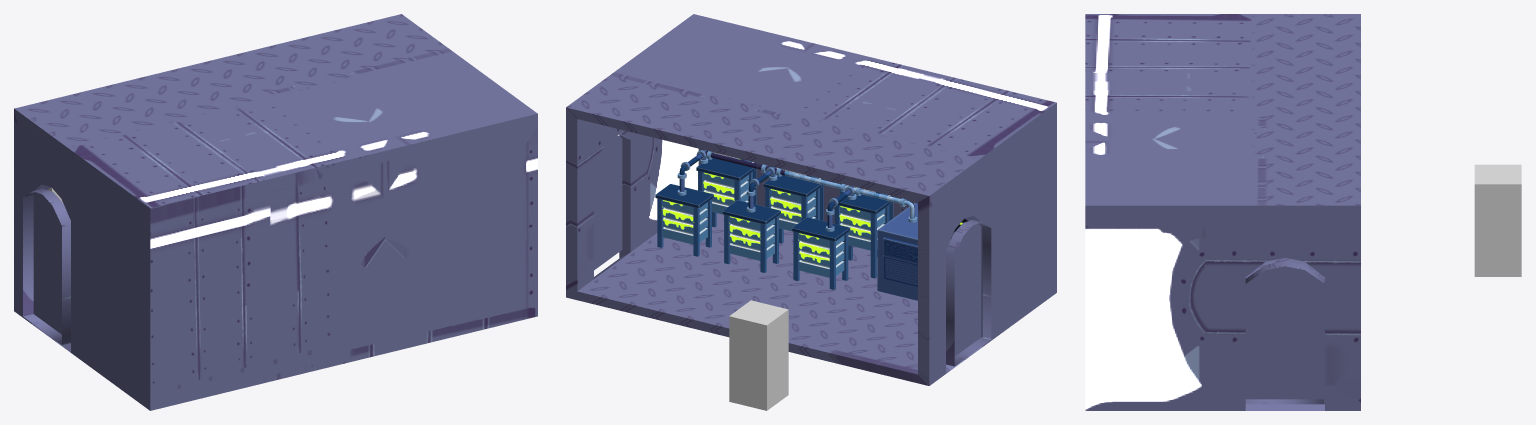
Rendered from complex_en_hon1.fbx.
The picture shows the model from 3 angles, left to right: view 1: azimuth 30°, elevation 25°; view 2: azimuth 150°, elevation 25°; view 3: azimuth 270°, elevation 25°; orthographic projection. The views are drawn at different scales.
Parts seen in each view (by area): view 1: base, base.002; view 2: base, Cube.002, base.002, base.001, Cube.001, Cube.004, Cube.010, Cube.007, Cube.014, Cube.005, Cube.008, Cube.011; view 3: base, base.001, Cube.002.
Boxes of the visible parts, x1=… form: base: x1=14, y1=14, x2=537, y2=410; base.002: x1=23, y1=188, x2=70, y2=344; base: x1=566, y1=14, x2=1056, y2=385; Cube.002: x1=729, y1=300, x2=788, y2=410; base.002: x1=946, y1=220, x2=991, y2=366; base.001: x1=594, y1=135, x2=622, y2=270; Cube.001: x1=877, y1=203, x2=967, y2=300; Cube.004: x1=791, y1=217, x2=850, y2=289; Cube.010: x1=655, y1=184, x2=713, y2=256; Cube.007: x1=722, y1=200, x2=780, y2=272; Cube.014: x1=677, y1=149, x2=917, y2=231; Cube.005: x1=834, y1=193, x2=891, y2=278; Cube.008: x1=763, y1=175, x2=821, y2=243; Cube.011: x1=696, y1=158, x2=754, y2=227; base: x1=1085, y1=14, x2=1360, y2=410; base.001: x1=1245, y1=261, x2=1324, y2=404; Cube.002: x1=1474, y1=164, x2=1521, y2=276.
Bounding box in the file's own units: 834 × 400 × 770.
